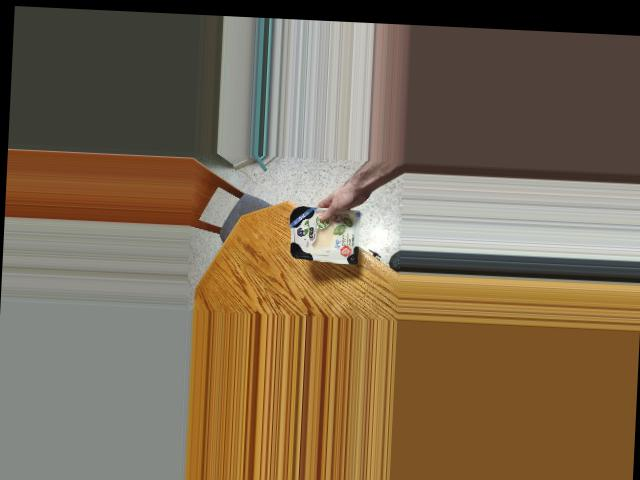cheese: (272, 203, 376, 264)
